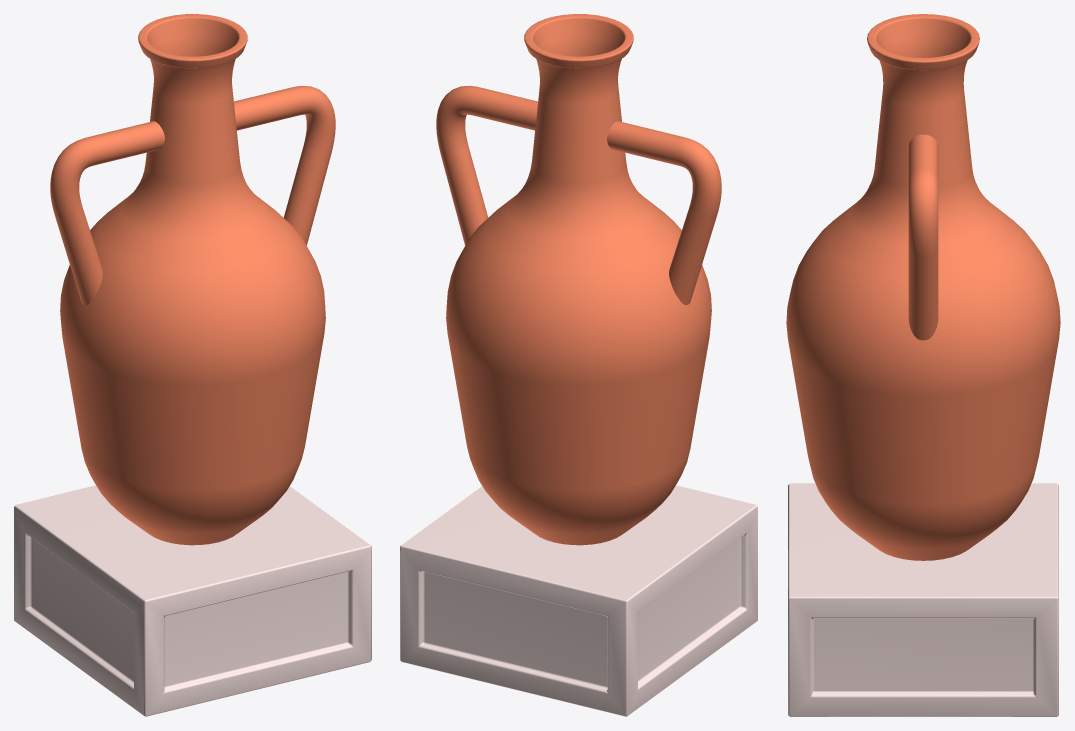
File: Public_9_Exhibit_Vase_1.glb
3 views of the same model, side by side, from view 1: azimuth 30°, elevation 25°; view 2: azimuth 150°, elevation 25°; view 3: azimuth 270°, elevation 25° (orthographic). The views are drawn at different scales.
Visible parts, largest first — view 1: Public_9_Exhibit_Vase_1; view 2: Public_9_Exhibit_Vase_1; view 3: Public_9_Exhibit_Vase_1.
Boxes of the visible parts, x1,y1,x2,y2 form: Public_9_Exhibit_Vase_1: (14,14,371,716); Public_9_Exhibit_Vase_1: (400,14,757,716); Public_9_Exhibit_Vase_1: (786,14,1060,716).
Size of the model in its own units: 2.2 by 4.52 by 1.8.
1 material, 1 textured.
